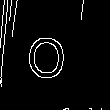O_N: (34, 29, 74, 81)
